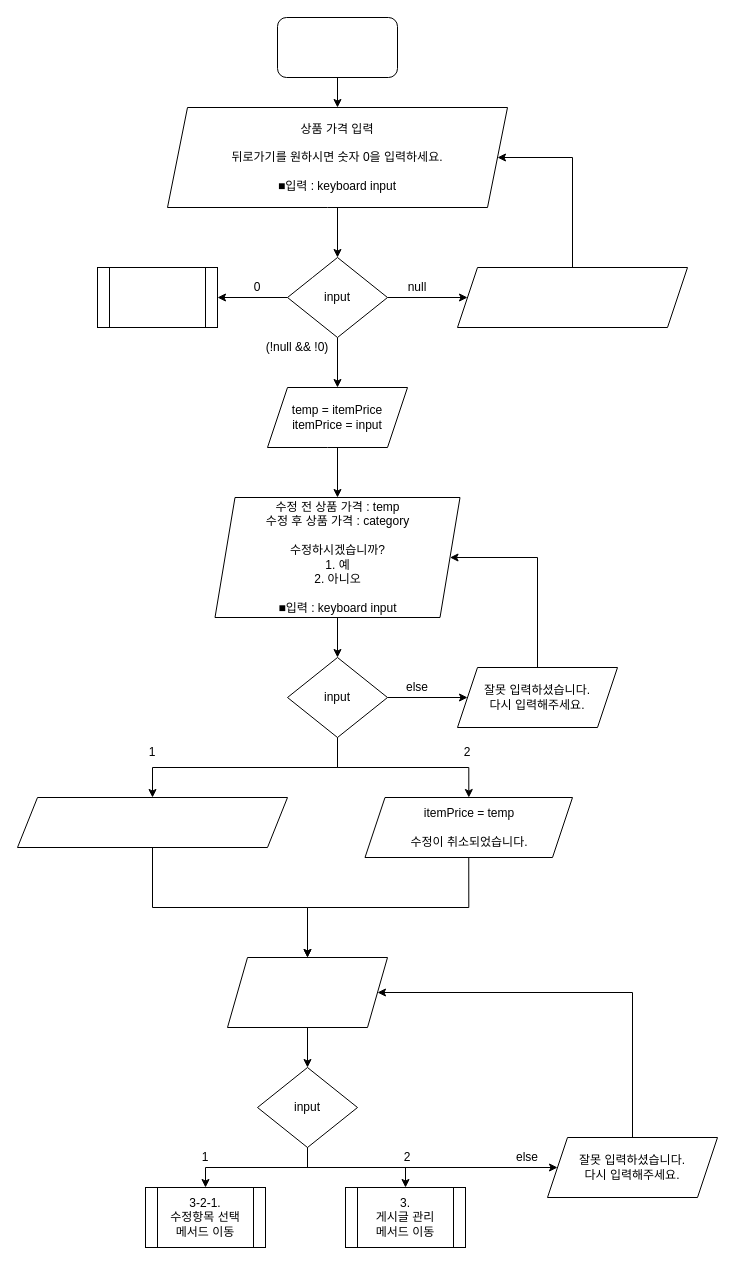
This 735x1265 diagram has some shape labels left out. The centre of each missing label's shape, as x and y in pixels:
1. 추가 수정하기 2. 나가기 ■입력 : keyboard input: pixel 307 992
상품 가격 수정 메서드 이동: pixel 337 47
상품 가격을 입력하지 않았습니다. 다시 입력해주세요.: pixel 572 297
상품 가격이 itemPrice 수정되었습니다.: pixel 152 822
상품 설명 수정 메서드 이동: pixel 157 297
